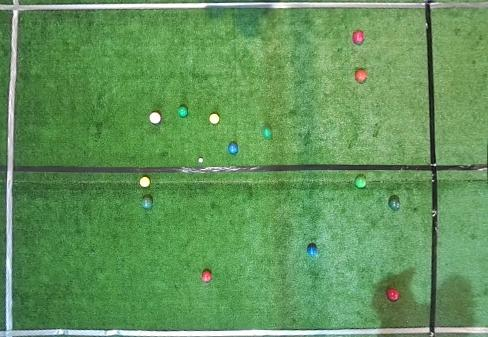blue: (228, 143, 238, 154), (307, 246, 317, 256)
green: (355, 176, 366, 188), (389, 199, 400, 210), (142, 198, 152, 210), (178, 106, 188, 117), (263, 128, 272, 138)
red: (387, 289, 399, 301), (149, 112, 161, 124), (355, 70, 367, 82), (353, 31, 364, 43), (201, 271, 212, 282)
vline: (424, 0, 487, 336), (0, 0, 21, 336)
white: (198, 158, 203, 163)
yellow: (209, 114, 220, 124), (140, 177, 150, 187)
